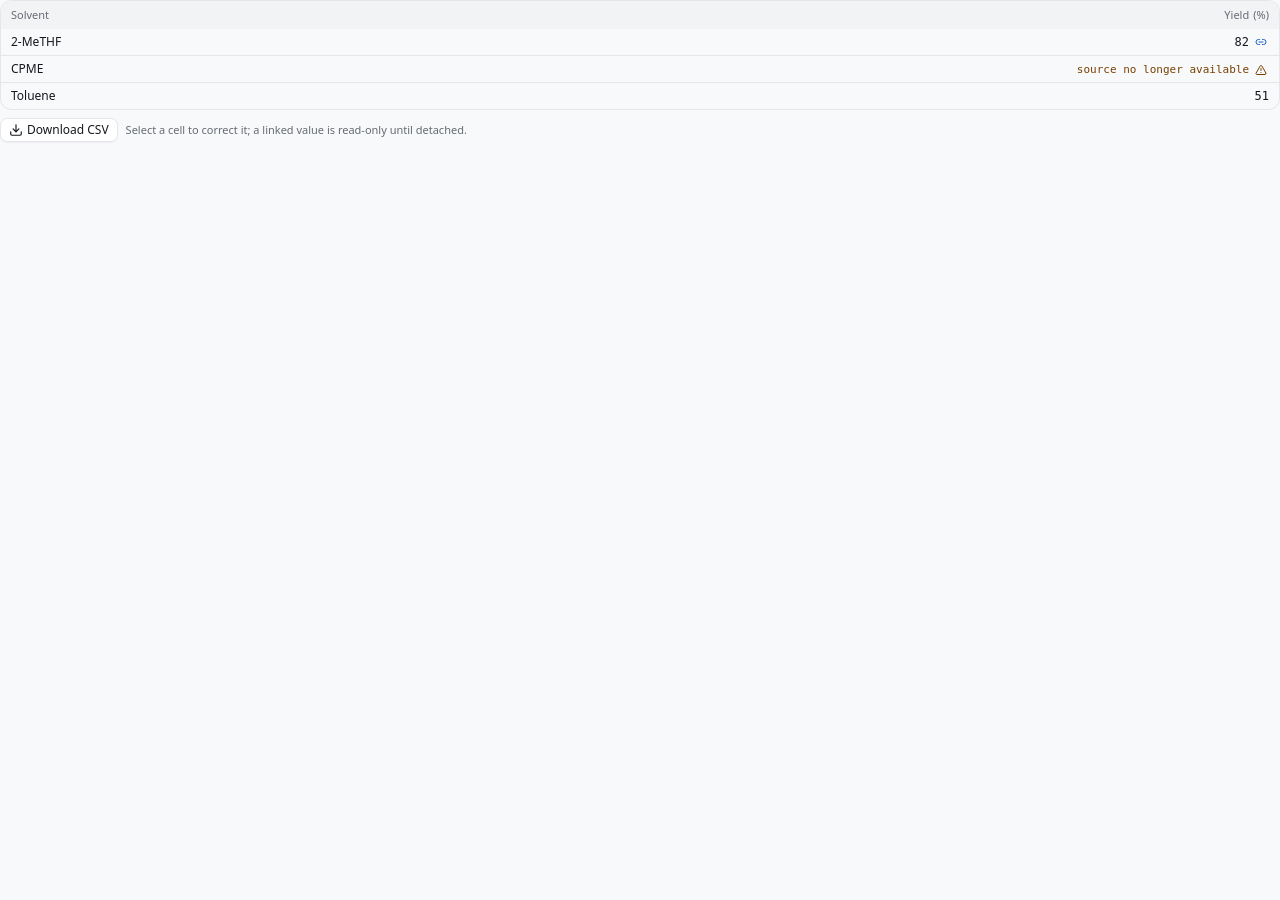
Test: a table with bound cells › opens the provenance from the keyboard-reachable marker
The width and height of the screenshot is (1280, 900).
Step 1. Click the button named "From predict_yield, /0/yield" → (1261, 42), box [1253,34,1269,50]
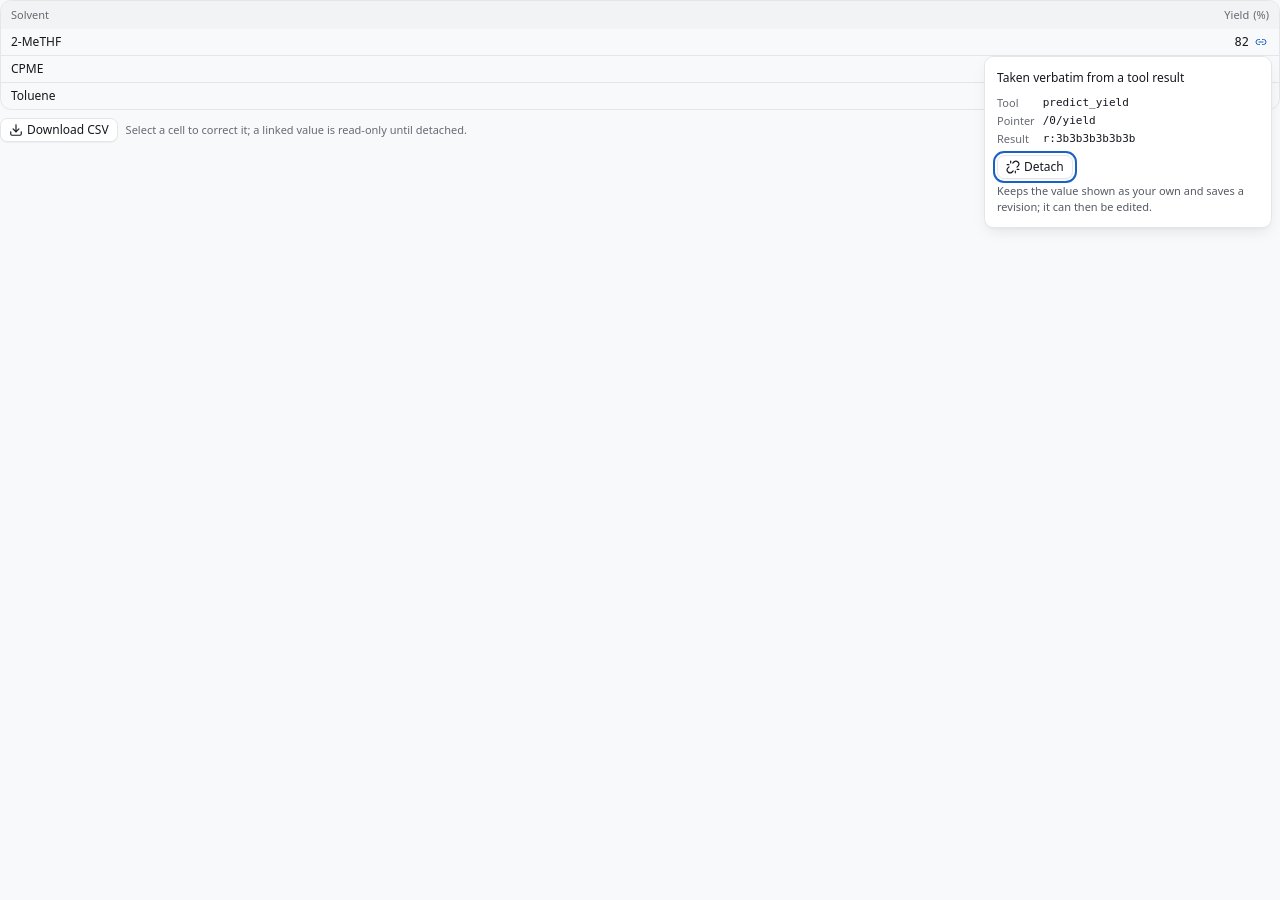
Now the dialog named "Where this value came from" shows "predict_yield", box [1043,96,1129,109]
Now the dialog named "Where this value came from" shows "/0/yield", box [1043,114,1096,127]
